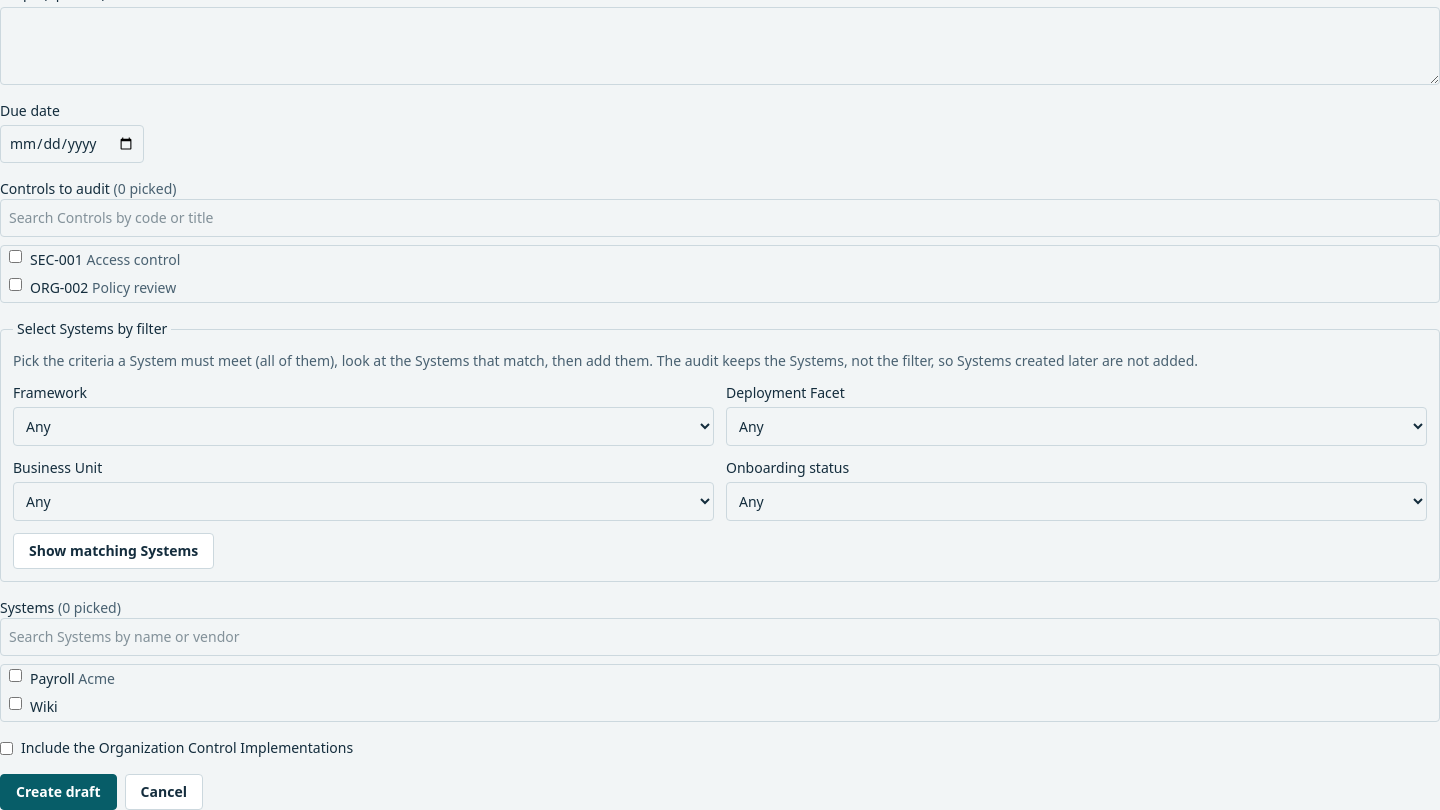
Scenario: InternalAuditForm (#152) › names everything missing and sends nothing when submitted empty
(page scrolled)
Click the button "Create draft" at (58, 792), box [0,774,117,809]
(page scrolled)
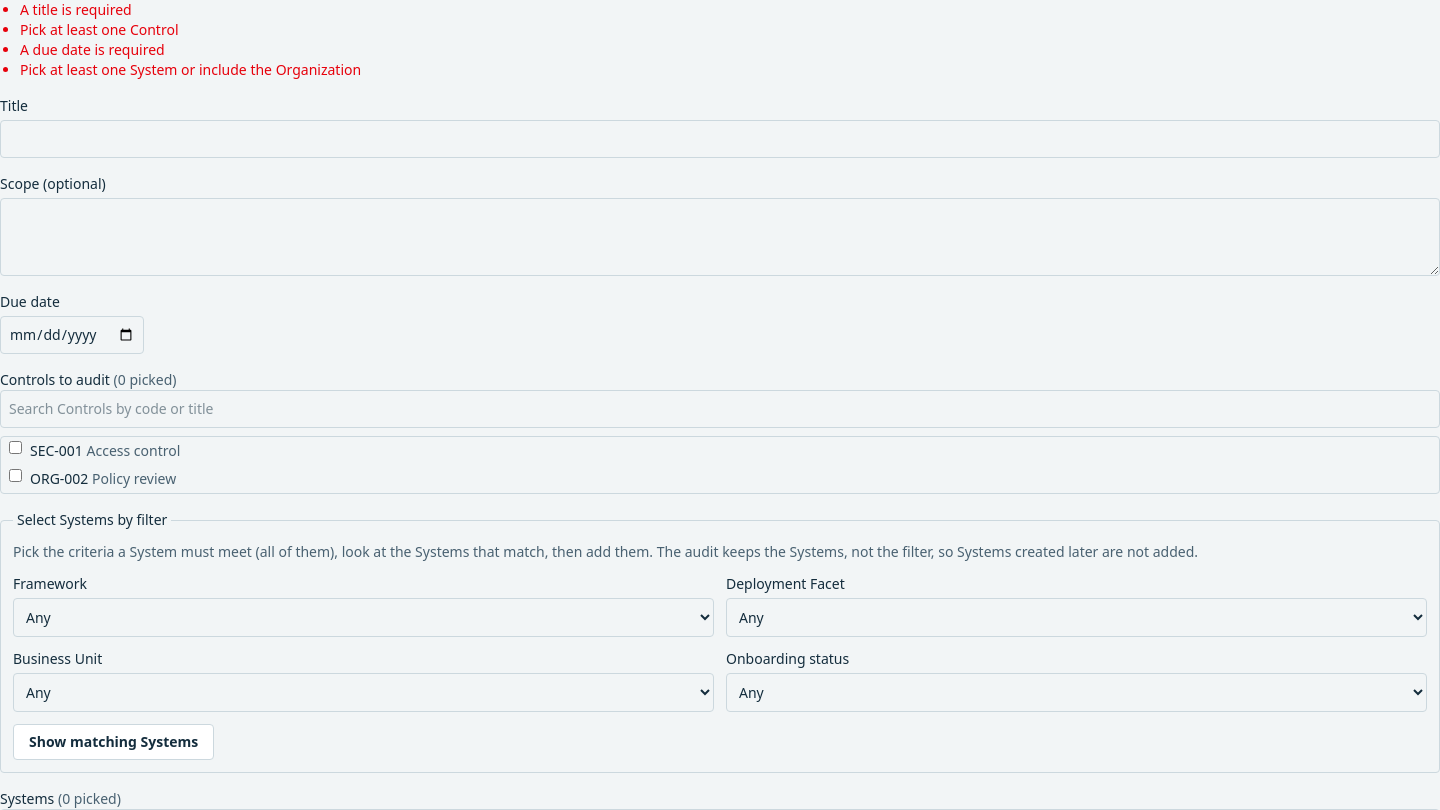
Expected: the list item "A title is required" is shown, [20,0,132,19]
Expected: the list item "Pick at least one Control" is shown, [20,20,178,39]
Expected: the list item "A due date is required" is shown, [20,40,165,59]
